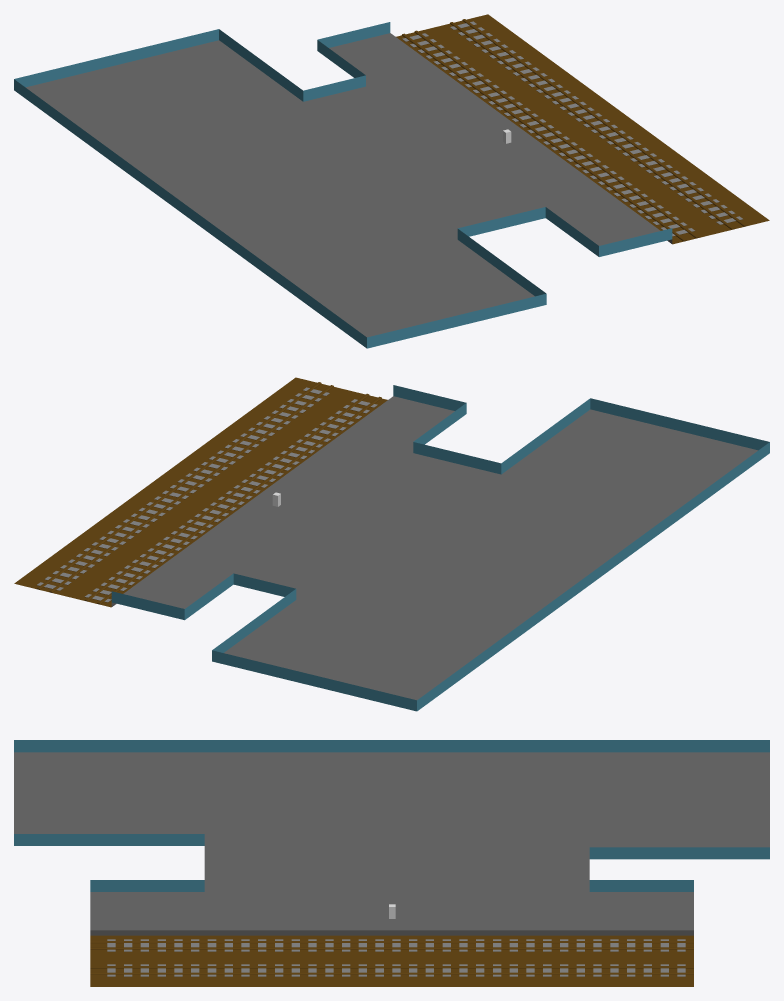
File: Game Models.fbx
3 views of the same model, one above another, from view 1: azimuth 30°, elevation 25°; view 2: azimuth 150°, elevation 25°; view 3: azimuth 270°, elevation 25° (orthographic). The views are drawn at different scales.
Parts seen in each view (by area): view 1: Location, Trains; view 2: Location, Trains; view 3: Location, Trains.
Boxes of the visible parts, x1,y1,x2,y2 form: Location: (14, 22, 672, 348); Trains: (396, 14, 769, 244); Location: (111, 385, 769, 711); Trains: (14, 377, 387, 607); Location: (14, 740, 769, 935); Trains: (90, 935, 693, 986).
Size of the model in its own units: 8287 by 295 by 11551.
